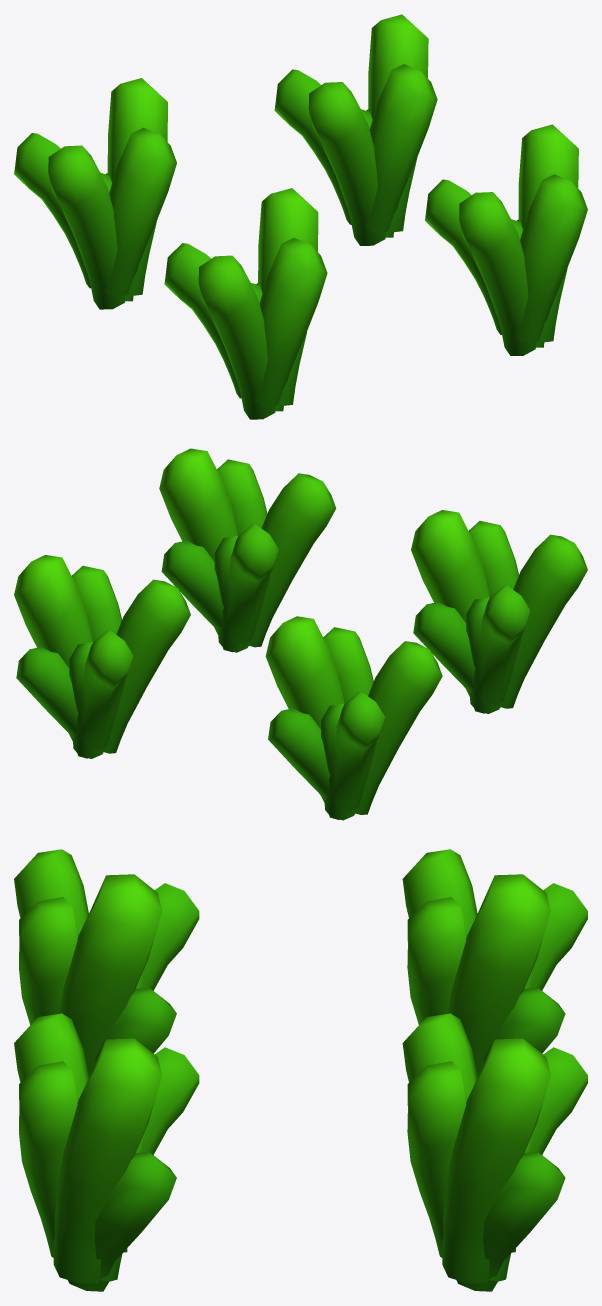
Rendered from Farm_Crop_Carrot_Step_01.fbx.
3 views of the same model, one above another, from view 1: azimuth 30°, elevation 25°; view 2: azimuth 150°, elevation 25°; view 3: azimuth 270°, elevation 25° (orthographic). The views are drawn at different scales.
Parts seen in each view (by area): view 1: Farm_Crop_Carrot_Step_01; view 2: Farm_Crop_Carrot_Step_01; view 3: Farm_Crop_Carrot_Step_01.
Part boxes in pixels (left/top/right/bottom): Farm_Crop_Carrot_Step_01: left=14, top=14, right=587, bottom=419; Farm_Crop_Carrot_Step_01: left=14, top=448, right=587, bottom=820; Farm_Crop_Carrot_Step_01: left=14, top=849, right=587, bottom=1291.
Bounding box in the file's own units: 154 × 74.38 × 148.
